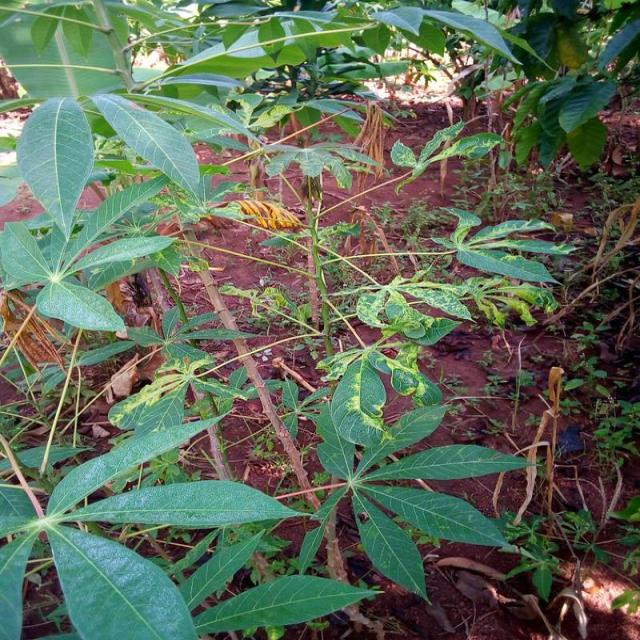Mosaico: (296, 332, 421, 438), (346, 256, 478, 342), (101, 336, 236, 417), (445, 274, 573, 345), (388, 140, 516, 197)
